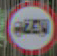Heavy Vehicles: (8, 5, 51, 46)
